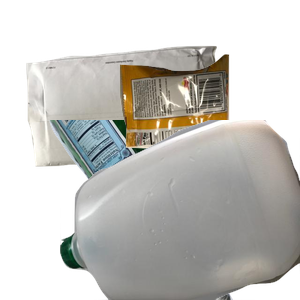glass: (37, 120, 262, 300)
paper: (24, 43, 242, 202)
plastic: (60, 120, 300, 300)
trash: (117, 52, 300, 193)
